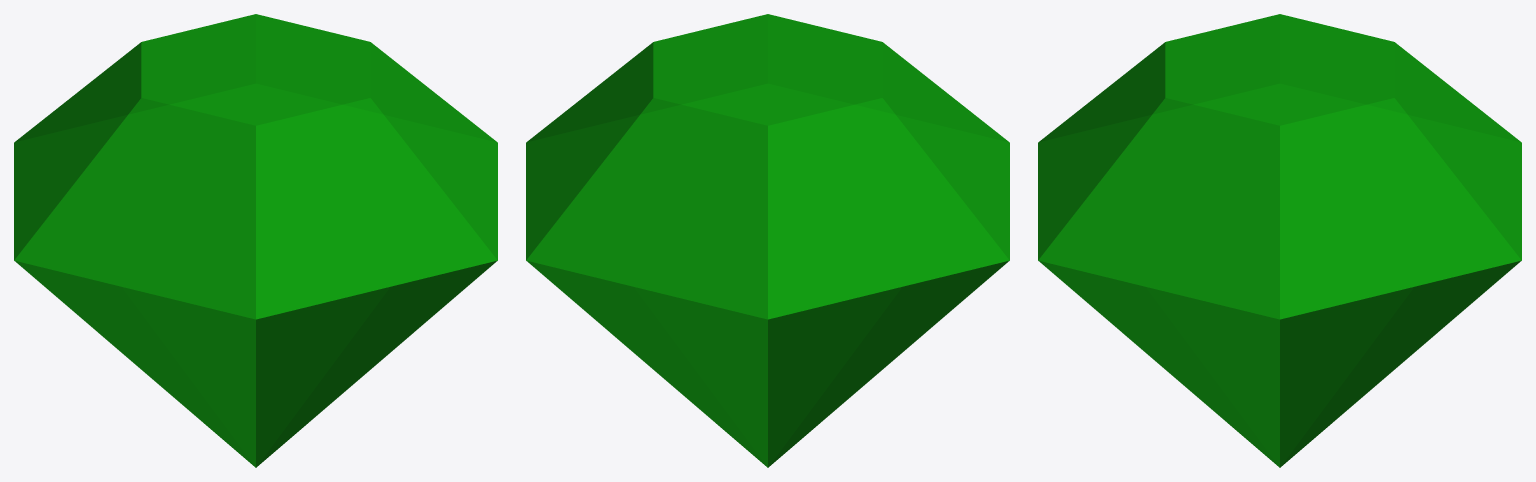
File: emerald.dae
The picture shows the model from 3 angles, left to right: view 1: azimuth 30°, elevation 25°; view 2: azimuth 150°, elevation 25°; view 3: azimuth 270°, elevation 25°; orthographic projection.
Parts seen in each view (by area): view 1: SketchUp; view 2: SketchUp; view 3: SketchUp.
Boxes of the visible parts, <box> form: SketchUp: <box>14,14,497,467</box>; SketchUp: <box>526,14,1009,467</box>; SketchUp: <box>1038,14,1521,467</box>.
Bounding box in the file's own units: 29.92 × 25.91 × 23.53.
